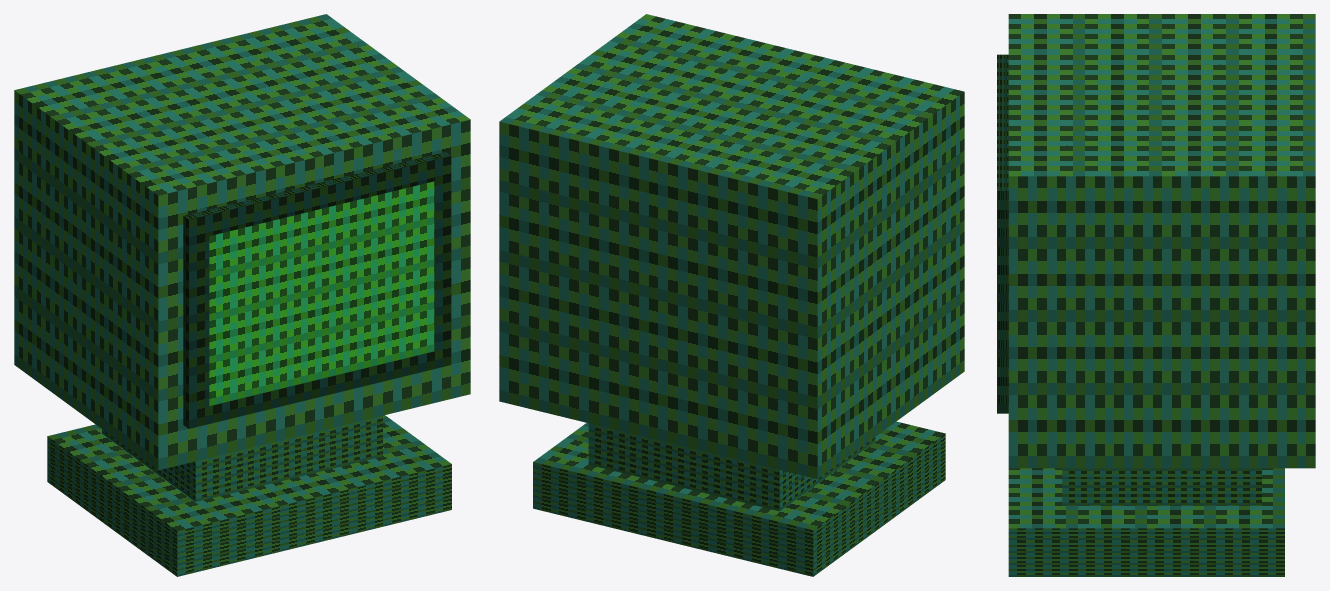
The model's file is neighbor_crt.glb.
3 views of the same model, side by side, from view 1: azimuth 30°, elevation 25°; view 2: azimuth 150°, elevation 25°; view 3: azimuth 270°, elevation 25° (orthographic). The views are drawn at different scales.
Parts seen in each view (by area): view 1: neighbor_crt; view 2: neighbor_crt; view 3: neighbor_crt.
Part boxes in pixels (x1,y1,x2,y2): neighbor_crt: [14, 14, 470, 576]; neighbor_crt: [499, 14, 964, 576]; neighbor_crt: [997, 14, 1315, 576].
Bounding box in the file's own units: 0.5 × 0.59 × 0.42.
Materials: 1 (1 with a texture image).
